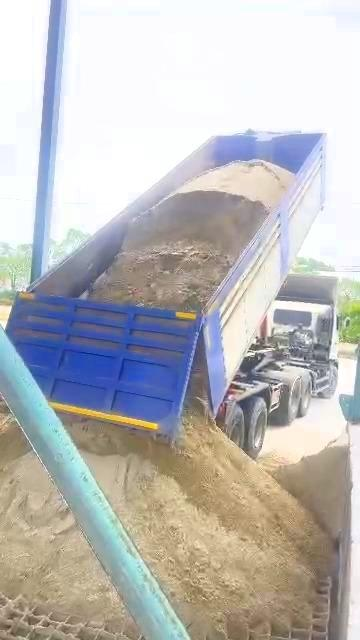sand: (67, 404, 330, 639), (89, 160, 293, 310), (0, 422, 131, 627), (273, 434, 349, 539)
